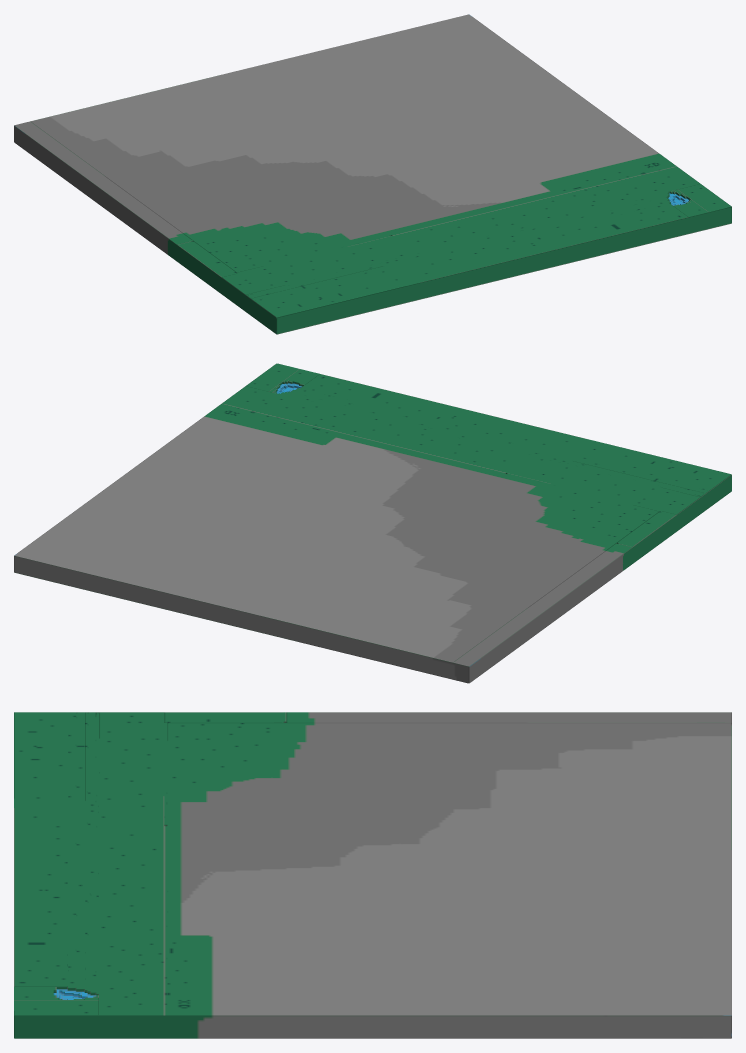
File: Esenario.obj
3 views of the same model, one above another, from view 1: azimuth 30°, elevation 25°; view 2: azimuth 150°, elevation 25°; view 3: azimuth 270°, elevation 25° (orthographic). The views are drawn at different scales.
Visible parts, largest first — view 1: Model; view 2: Model; view 3: Model.
Part boxes in pixels (box(x1,y1,x2,y2)): Model: box(14, 14, 731, 334); Model: box(14, 363, 731, 683); Model: box(14, 712, 731, 1038).
Bounding box in the file's own units: 253 × 9 × 253.
1 material, 1 textured.
